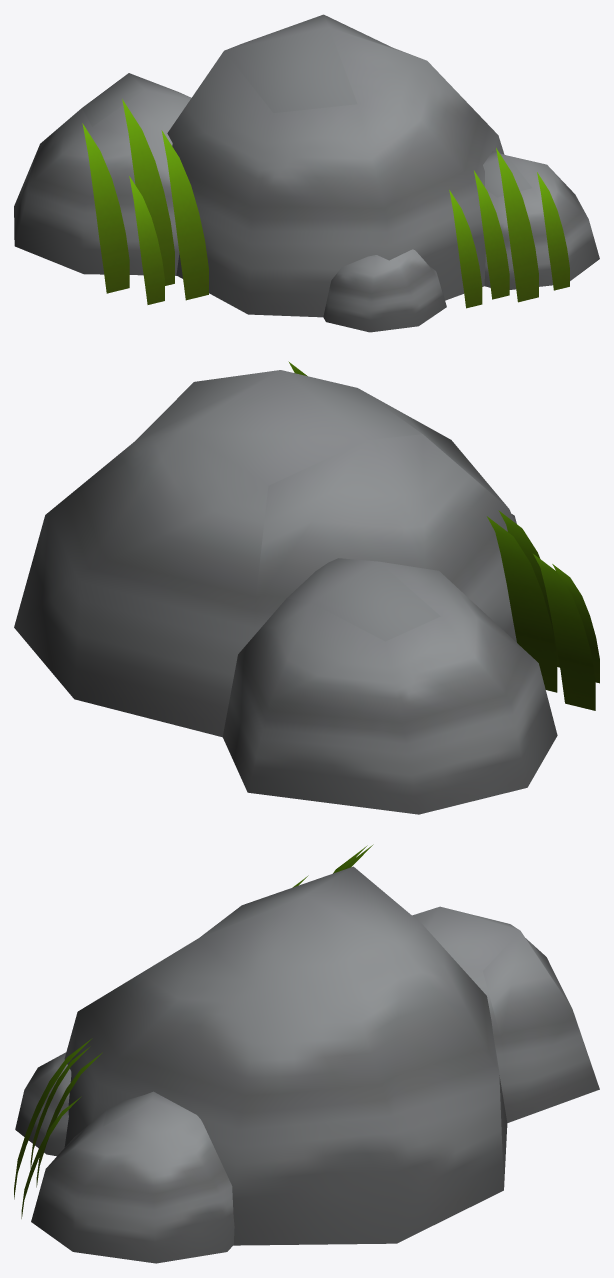
File: MESH_Cailloux03.fbx
3 renders of one model, top to bottom at view 1: azimuth 30°, elevation 25°; view 2: azimuth 150°, elevation 25°; view 3: azimuth 270°, elevation 25°, orthographic. The views are drawn at different scales.
Parts seen in each view (by area): view 1: MESH_Cailloux03; view 2: MESH_Cailloux03; view 3: MESH_Cailloux03.
Part boxes in pixels (x1,y1,x2,y2): MESH_Cailloux03: (14, 14, 599, 332); MESH_Cailloux03: (14, 361, 599, 814); MESH_Cailloux03: (14, 844, 599, 1263).
Bounding box in the file's own units: 0.8358 × 0.3693 × 0.7798.
